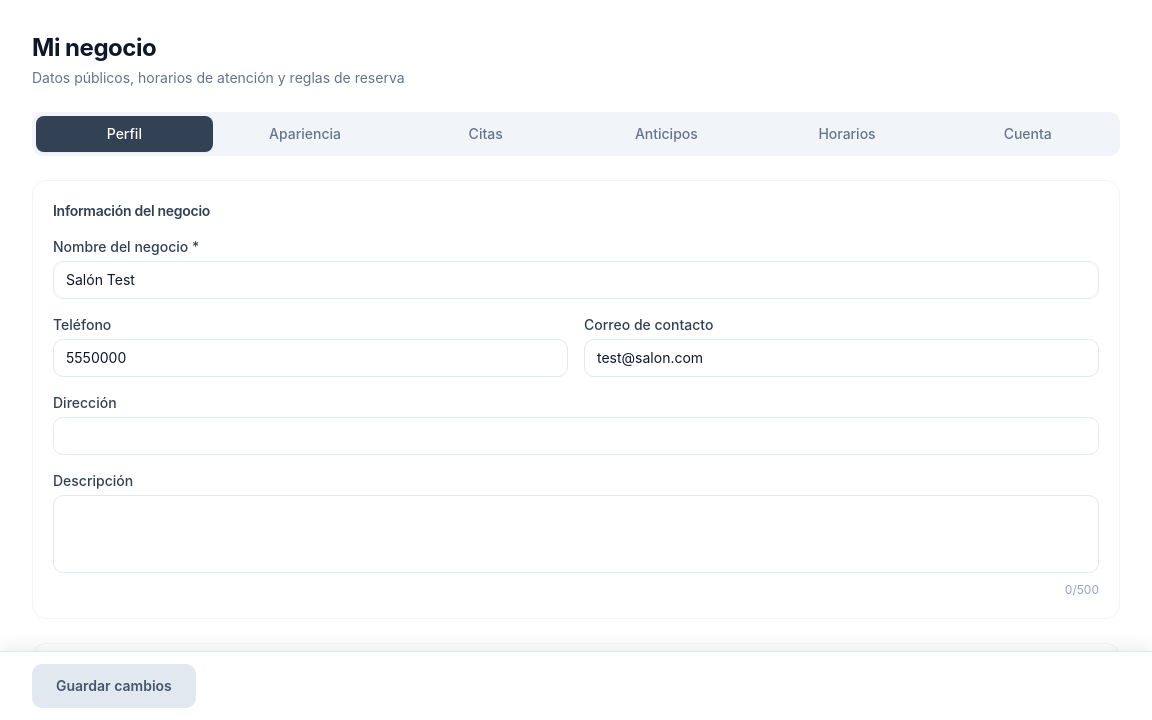
Test case: PerfilPage — 5 tabs › habilitar anticipo revela el slider de porcentaje
Click the button "Anticipos": click(666, 134) [578,116,755,152]
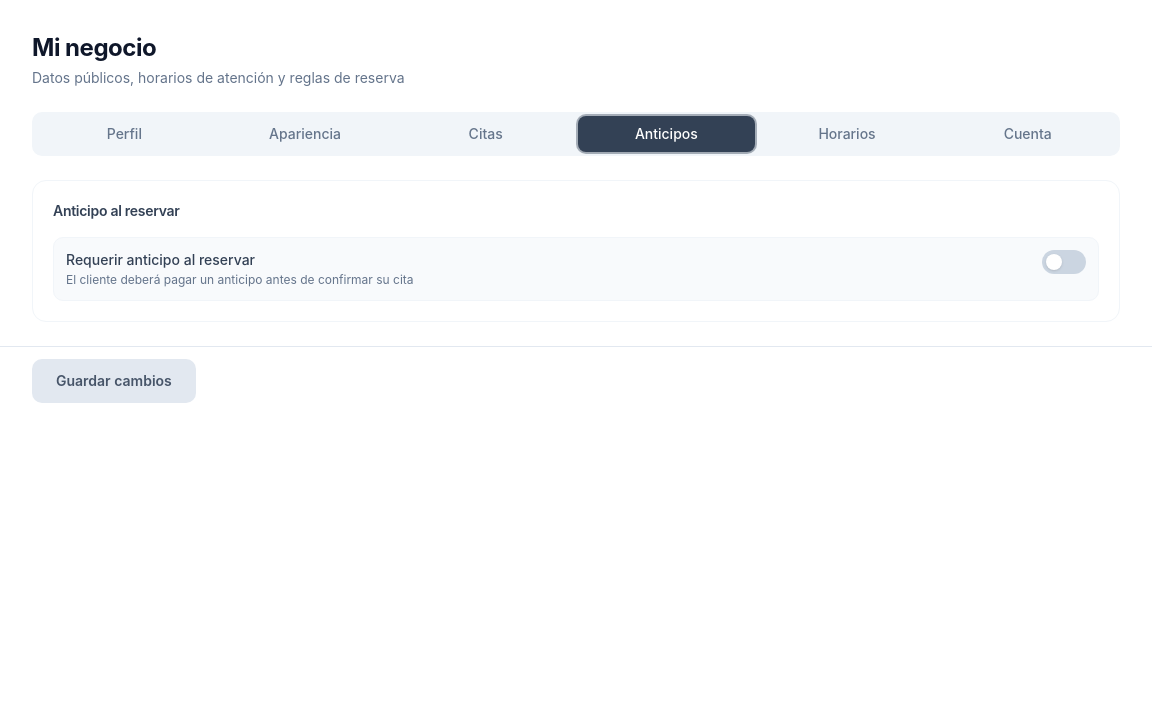
Expected: the text "Porcentaje del anticipo" is not shown
Expected: the text "Requerir anticipo al reservar" is shown, [66,251,255,268]
Click the switch named "Requerir anticipo al reservar": click(1064, 262) [1042,240,1086,284]
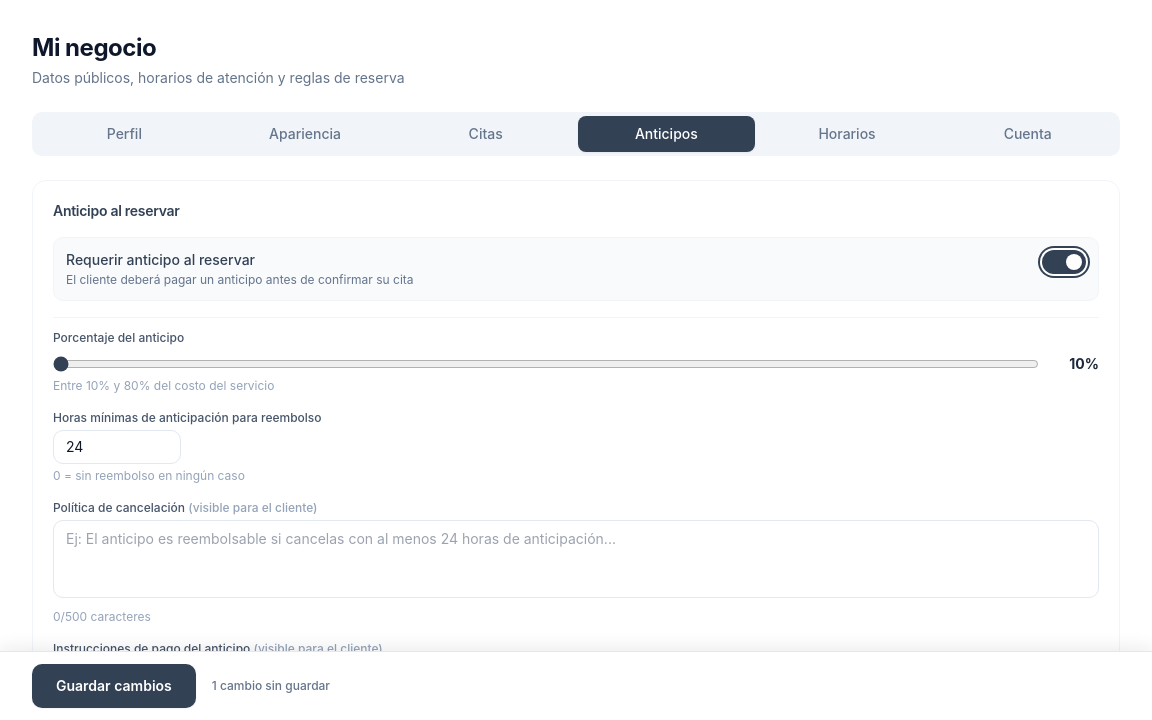
Expected: the text "Porcentaje del anticipo" is shown, [53,330,184,345]
